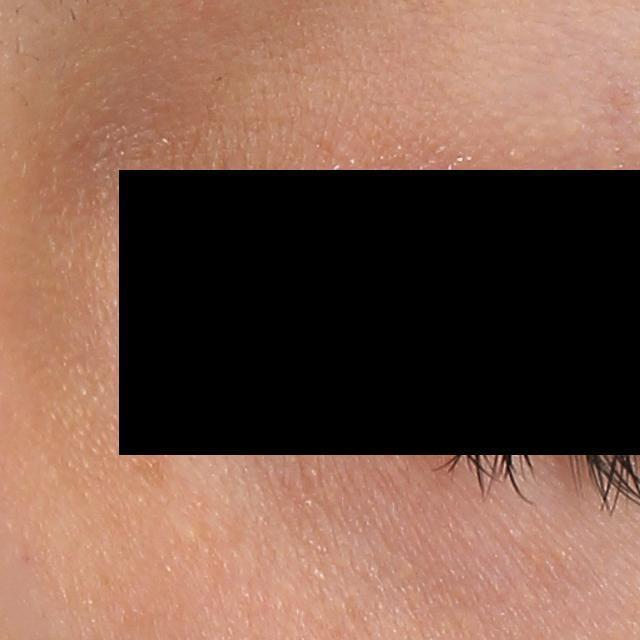melasma: (133, 440, 175, 488)
